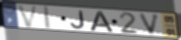2: (119, 11, 140, 35)
A: (89, 10, 114, 32)
I: (44, 5, 53, 30)
J: (70, 10, 86, 30)
V: (16, 4, 40, 28), (138, 13, 162, 36)
